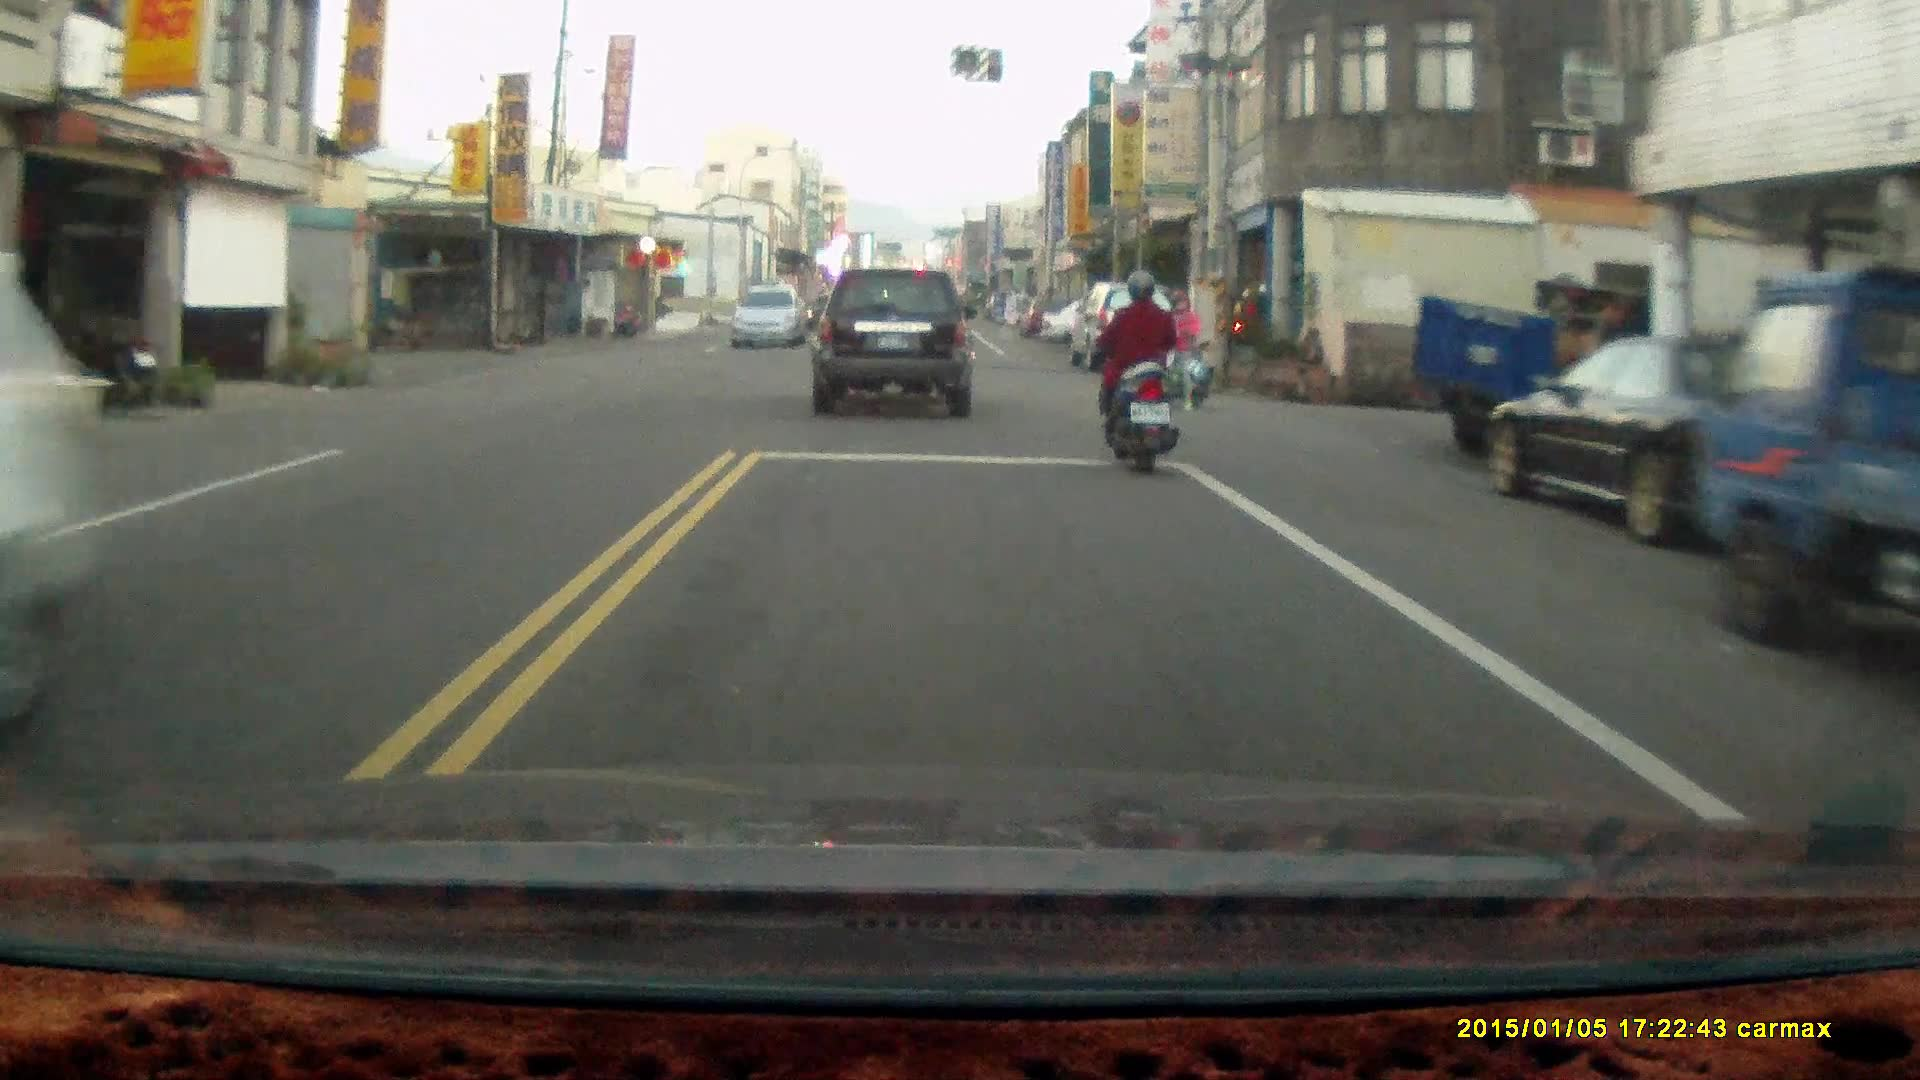rider: (1098, 267, 1177, 478), (1140, 284, 1214, 407)
vehicle: (1703, 266, 1920, 694), (1480, 329, 1882, 549), (1411, 274, 1690, 464), (809, 264, 980, 421), (1071, 283, 1183, 369), (730, 284, 811, 351)
